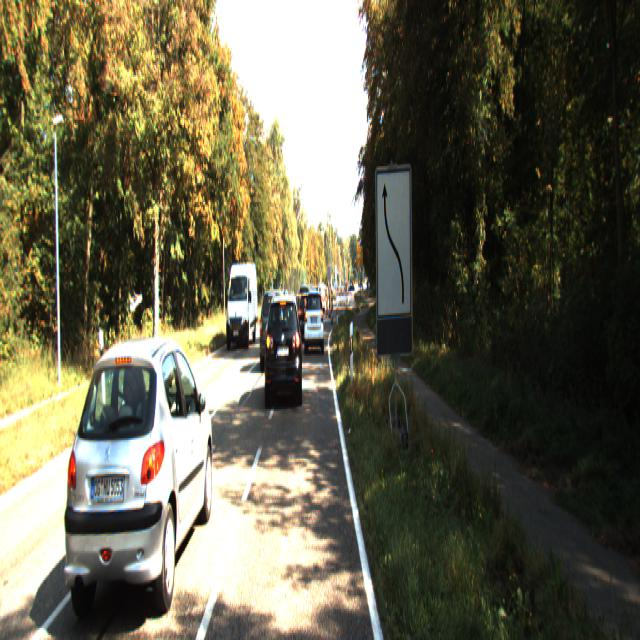Car: (64, 325, 216, 628), (264, 292, 303, 406), (226, 260, 258, 346), (258, 288, 288, 370), (305, 288, 323, 350)
